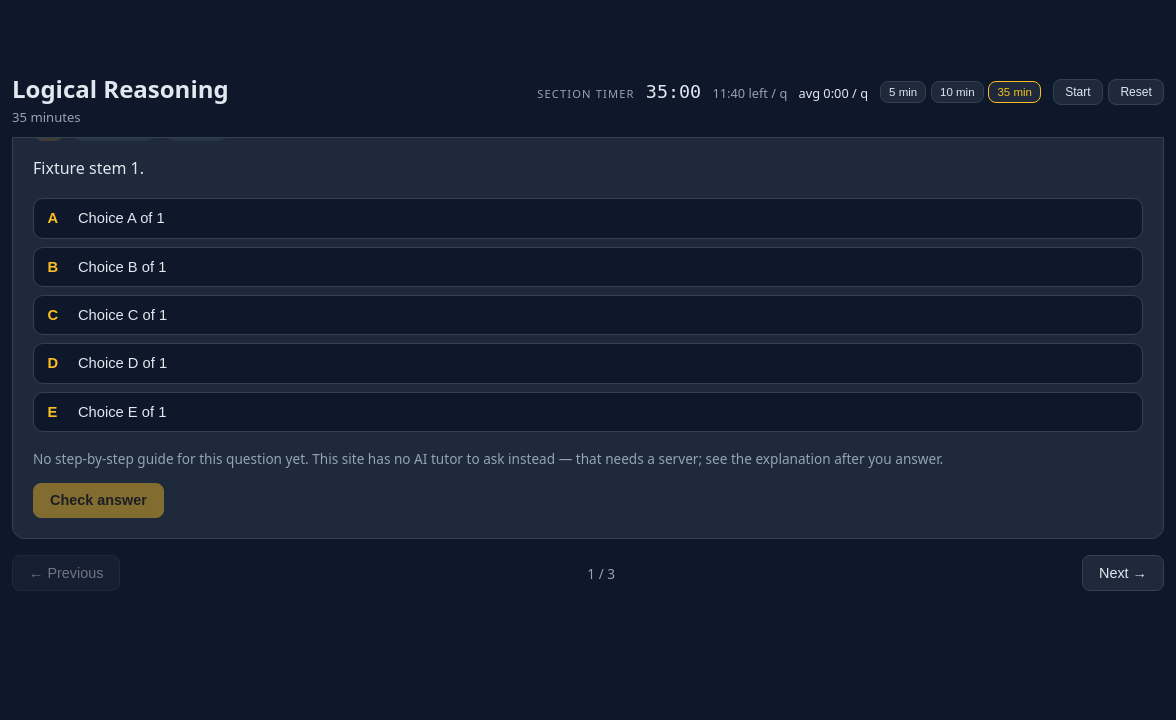
Scenario: Drill keyboard flow › drives the same moves from the nav buttons
Check: the button "← Previous" is disabled, box [12, 555, 120, 591]
Step 1. Click the button "Next →" → click(1123, 573), box [1082, 555, 1164, 591]
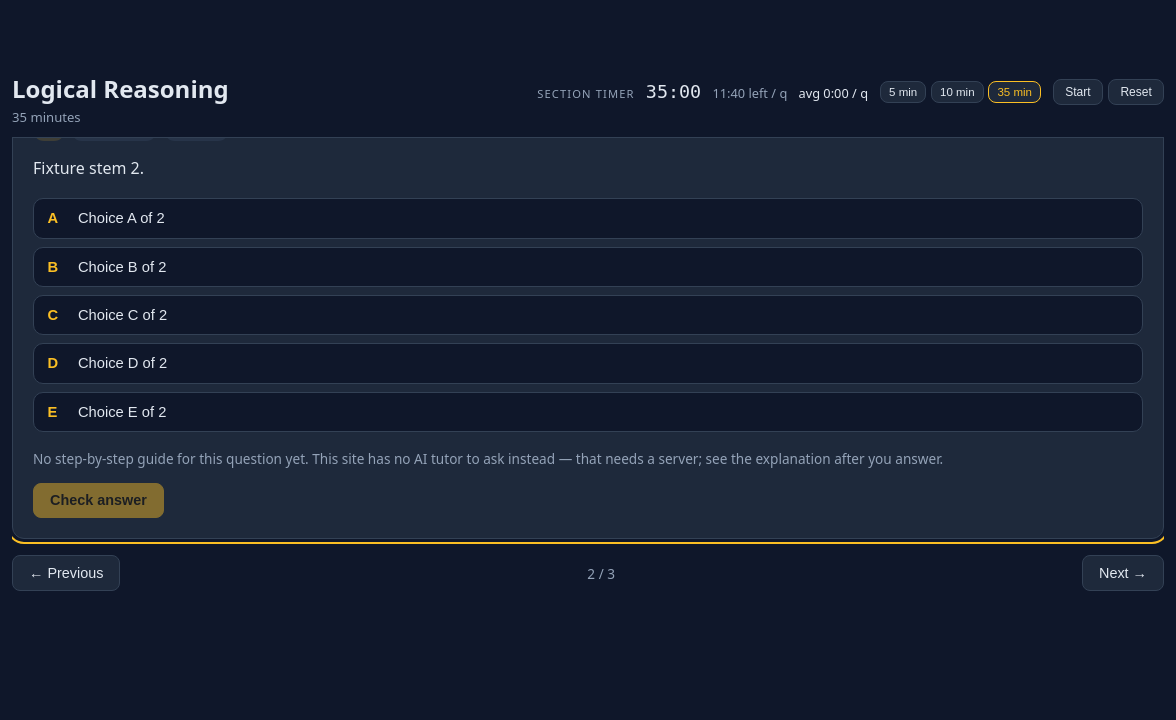
Check: the button "← Previous" is enabled, box [12, 555, 120, 591]
